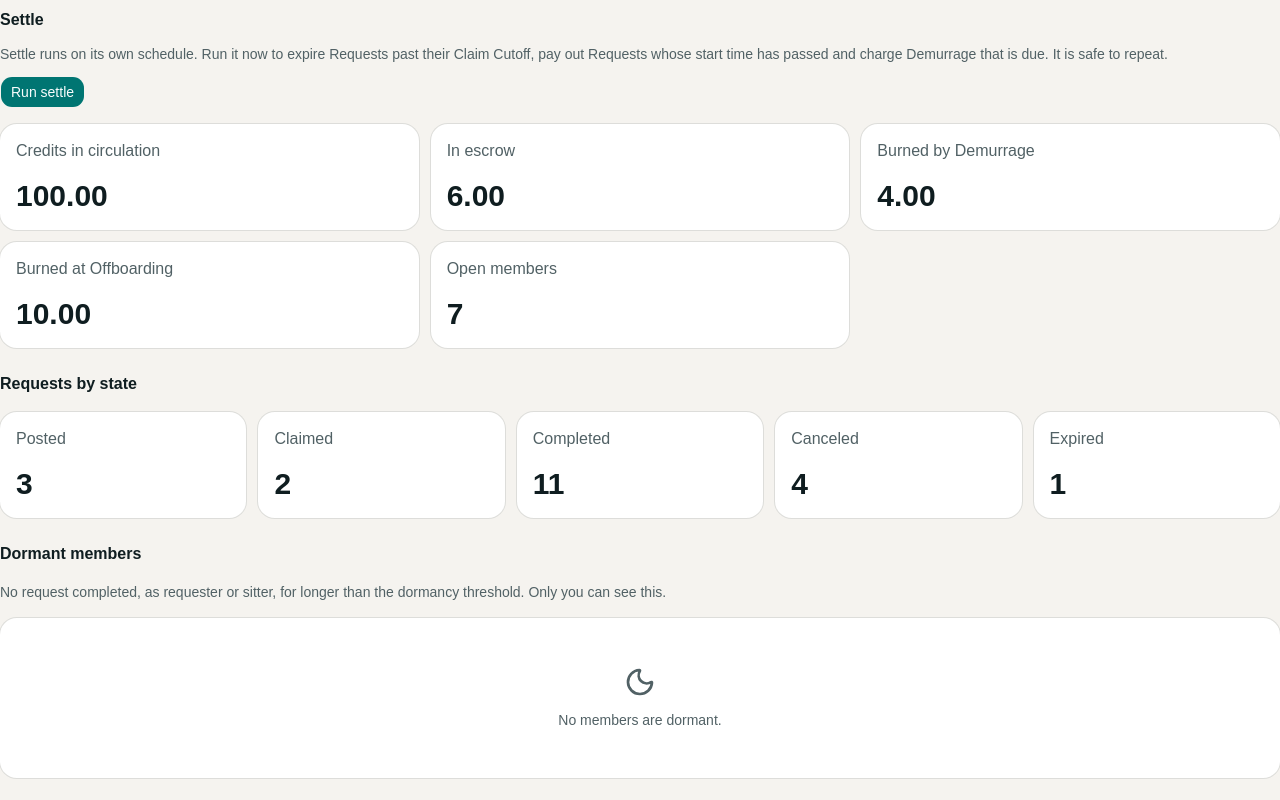
Scenario: PoolAdminPage › Run settle › runs nothing when the confirmation is canceled
Click the button "Run settle". click: [42, 92]
box: 0,76 -> 85,108
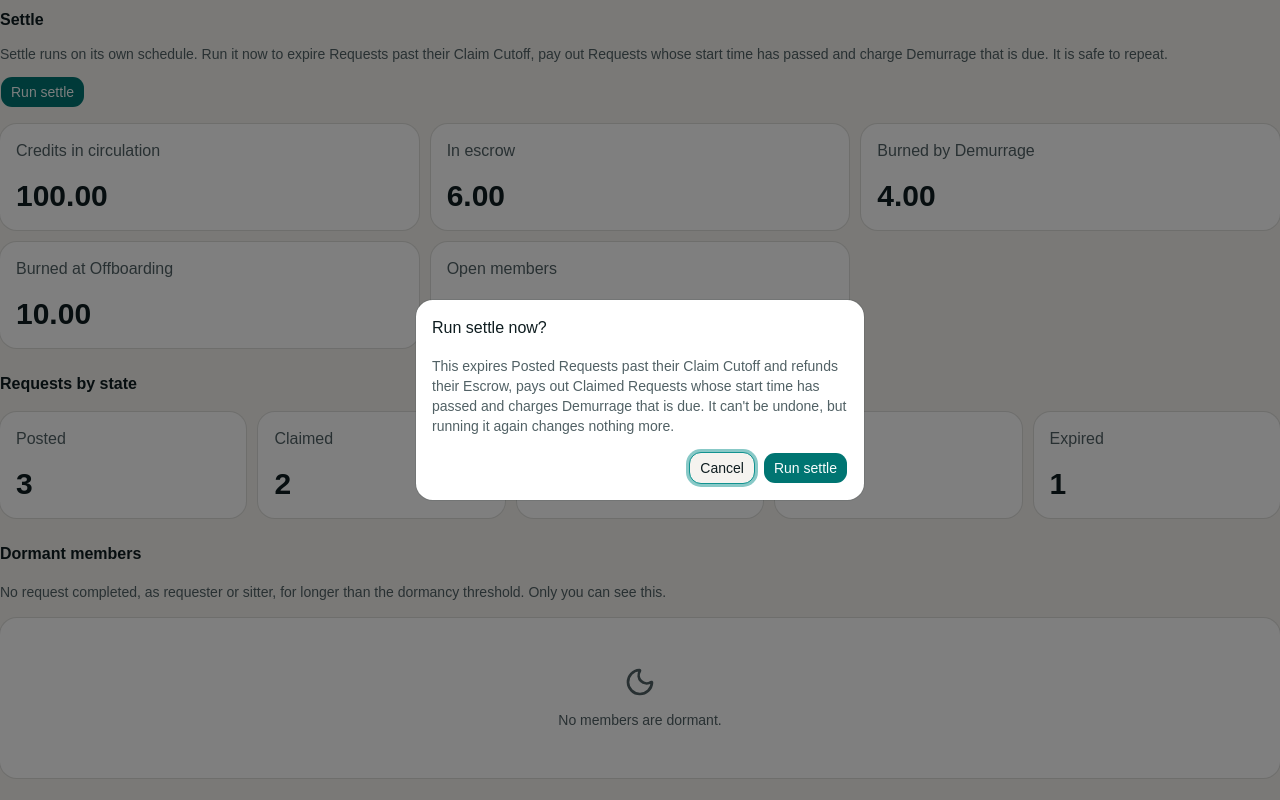
Click the button "Cancel". click: [722, 468]
box: 689,452 -> 755,484
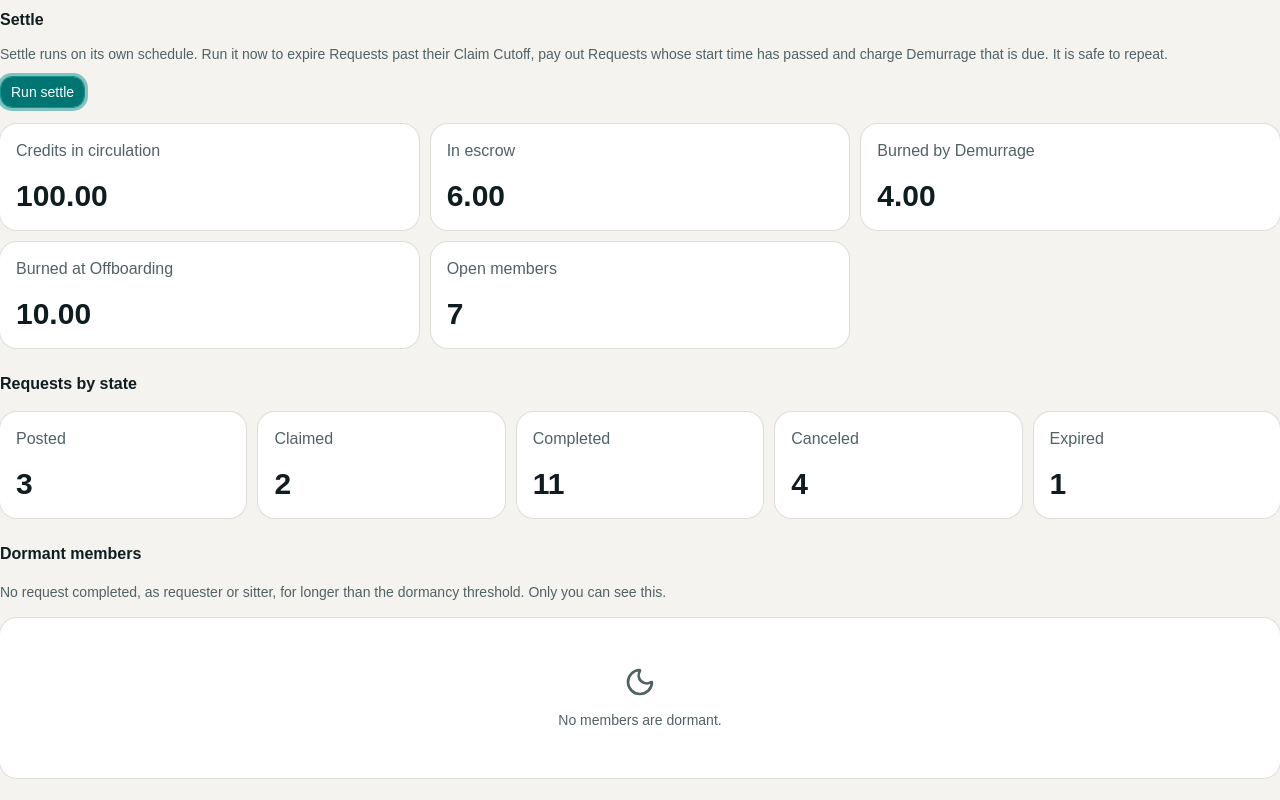
Result: the dialog is gone
